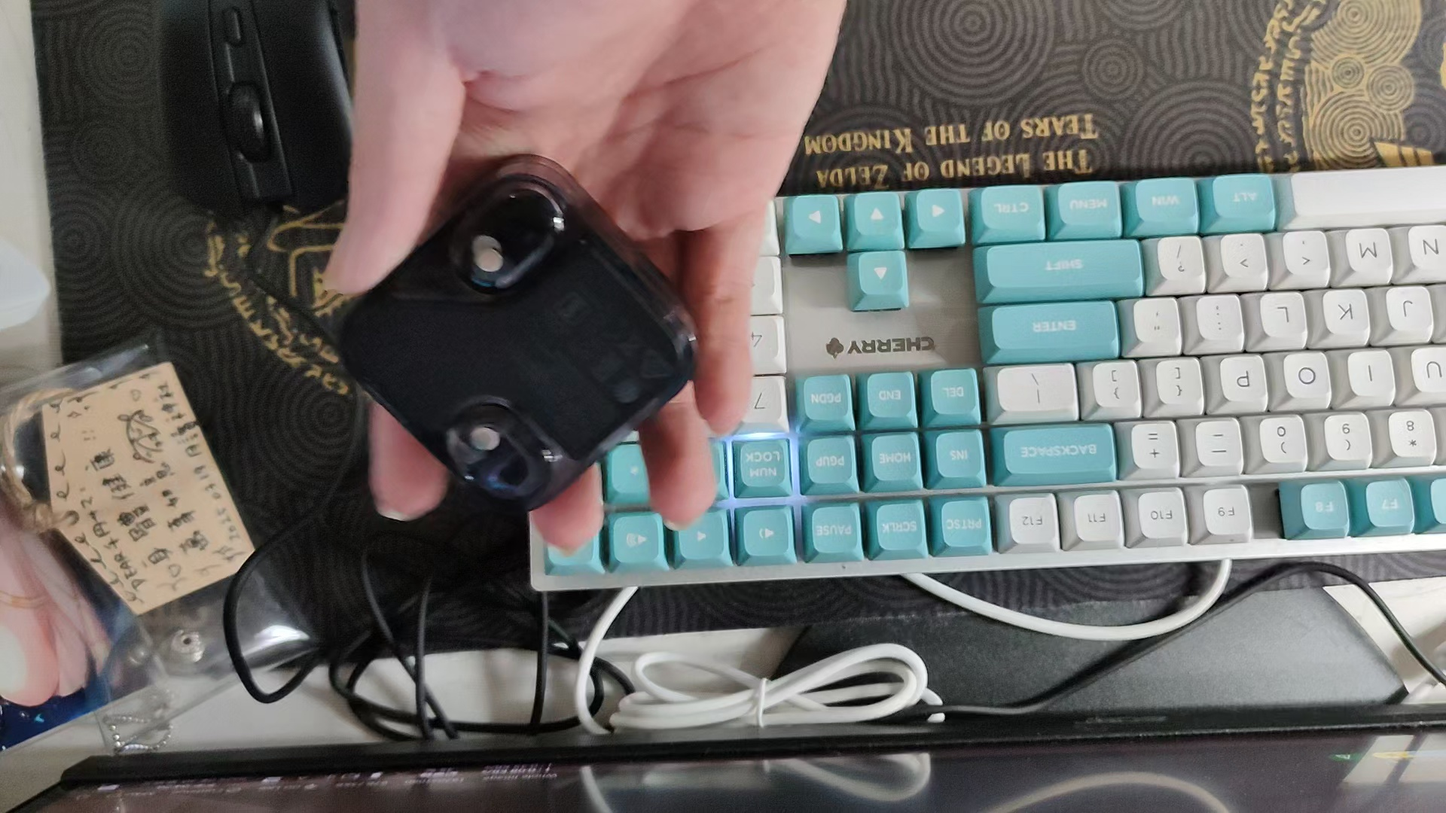Wireless_earphone: (333, 152, 704, 516)
